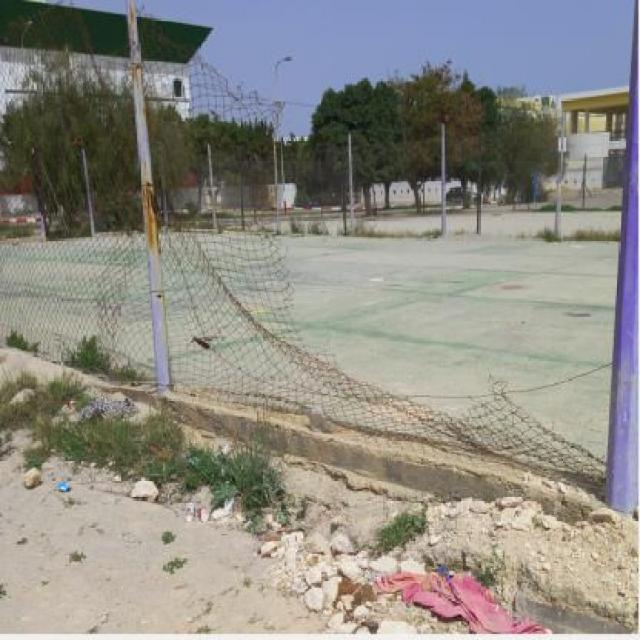fence line: (195, 25, 610, 483)
